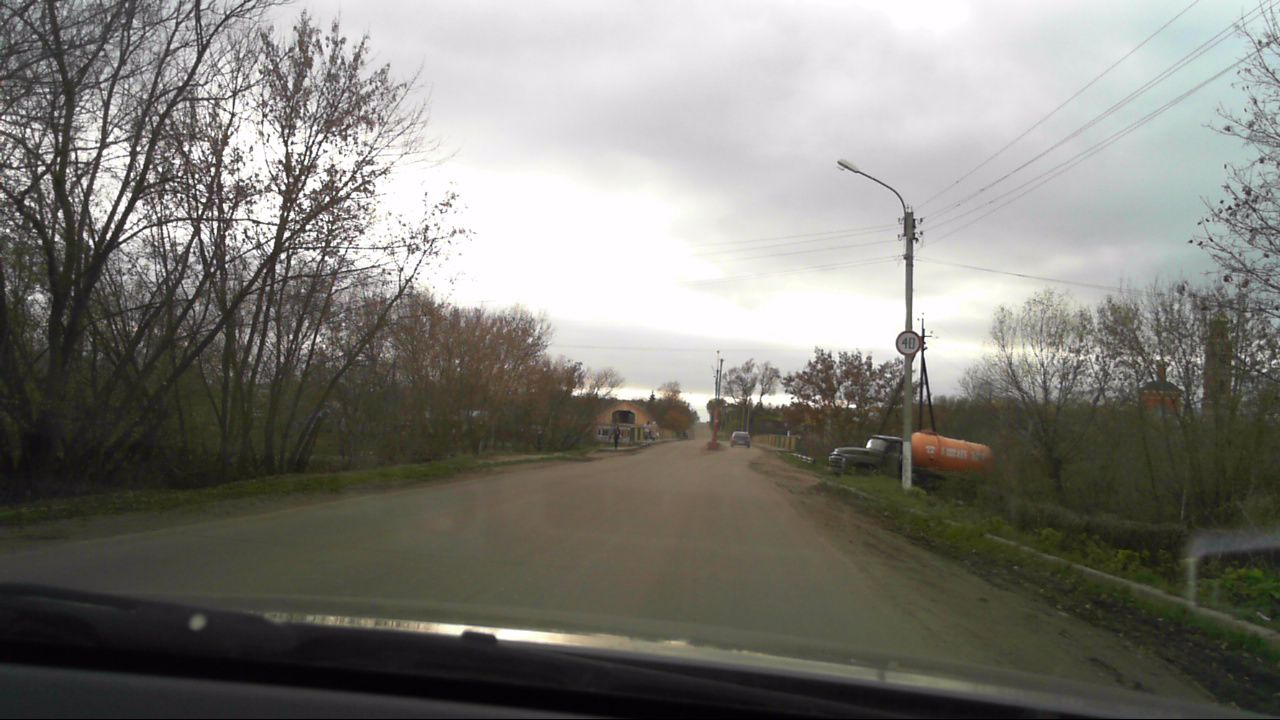speed_warning_40: (894, 331, 921, 356)
